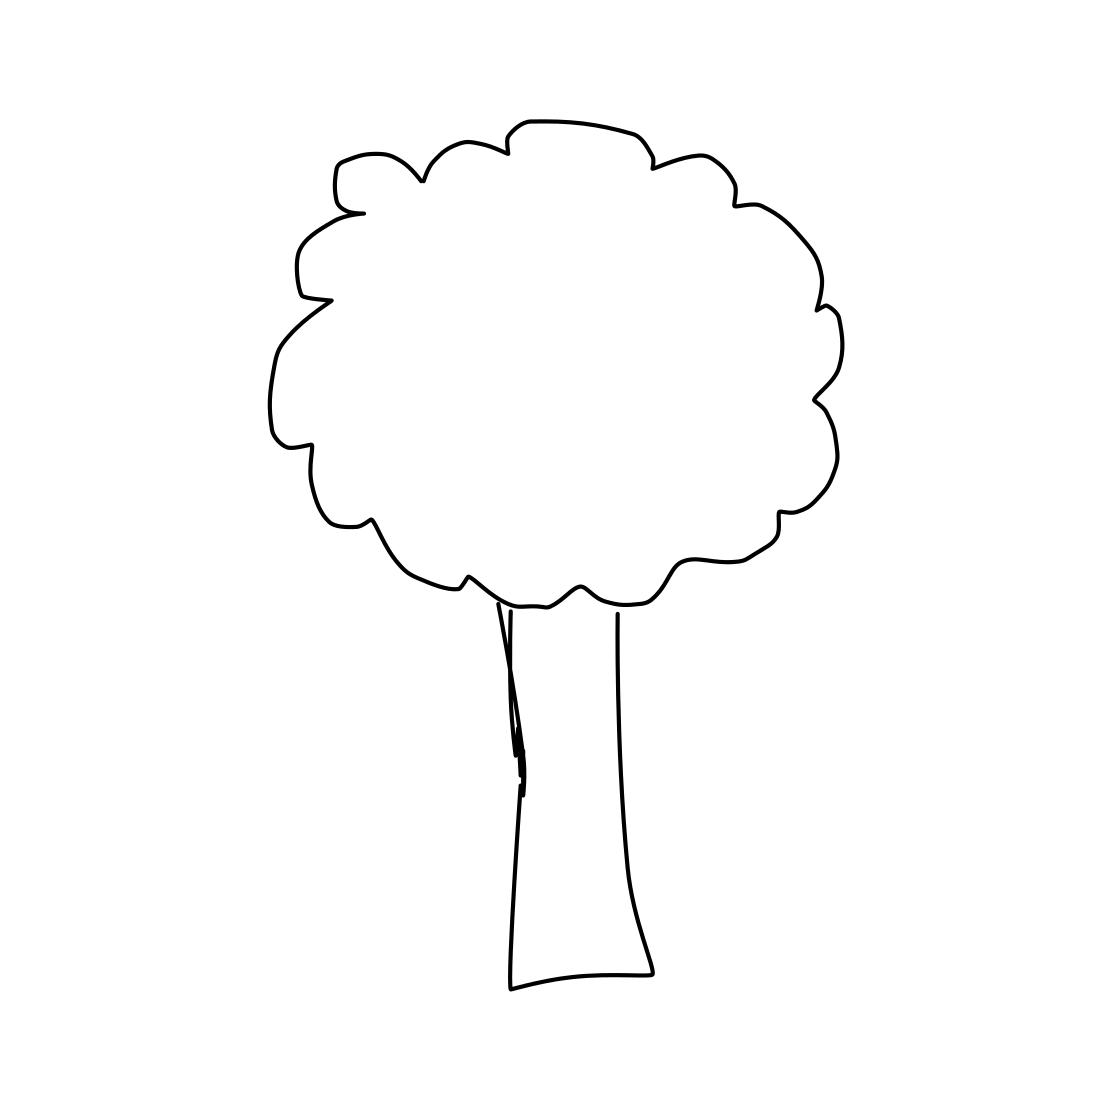Tree: (236, 80, 926, 994)
